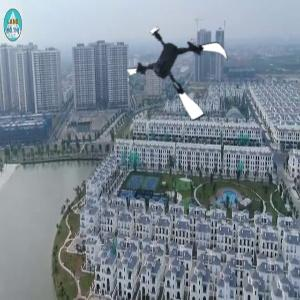drone: (131, 22, 232, 123)
